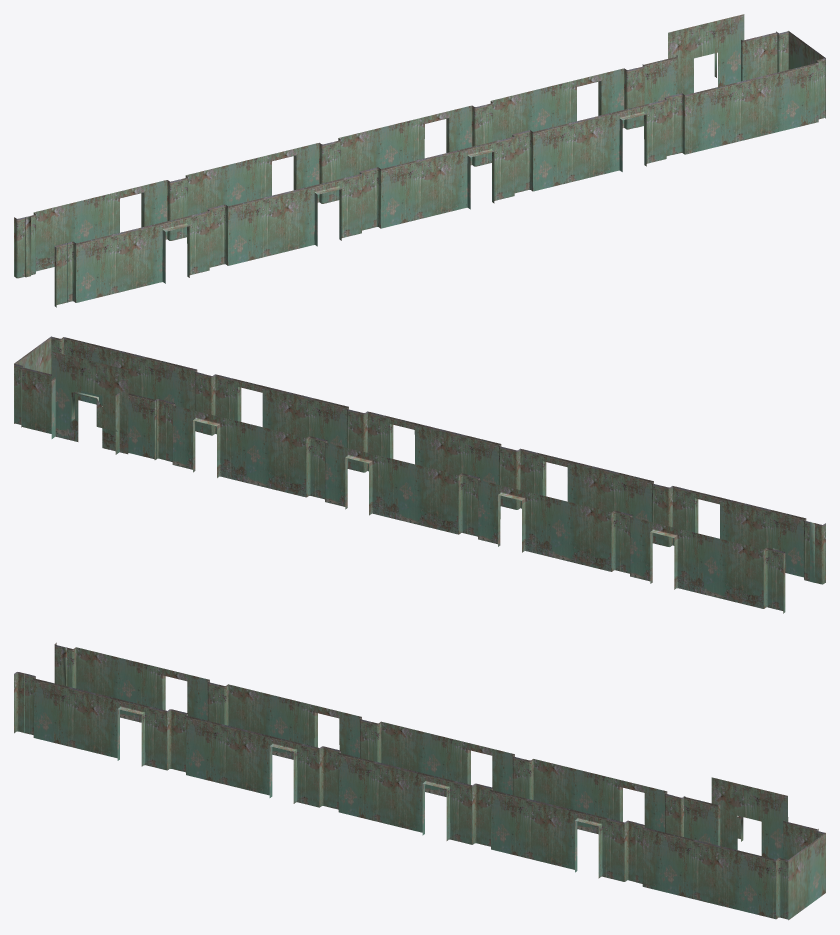
File: Sekunds before dissaster3.fbx
3 renders of one model, top to bottom at view 1: azimuth 30°, elevation 25°; view 2: azimuth 150°, elevation 25°; view 3: azimuth 330°, elevation 25°, orthographic.
Visible parts, largest first — view 1: Hospital01.022; view 2: Hospital01.022; view 3: Hospital01.022.
Boxes of the visible parts, left/top/right/bottom form: Hospital01.022: left=14, top=14, right=825, bottom=307; Hospital01.022: left=14, top=336, right=825, bottom=613; Hospital01.022: left=14, top=642, right=825, bottom=920.
Bounding box in the file's own units: 3874 × 407 × 440.
